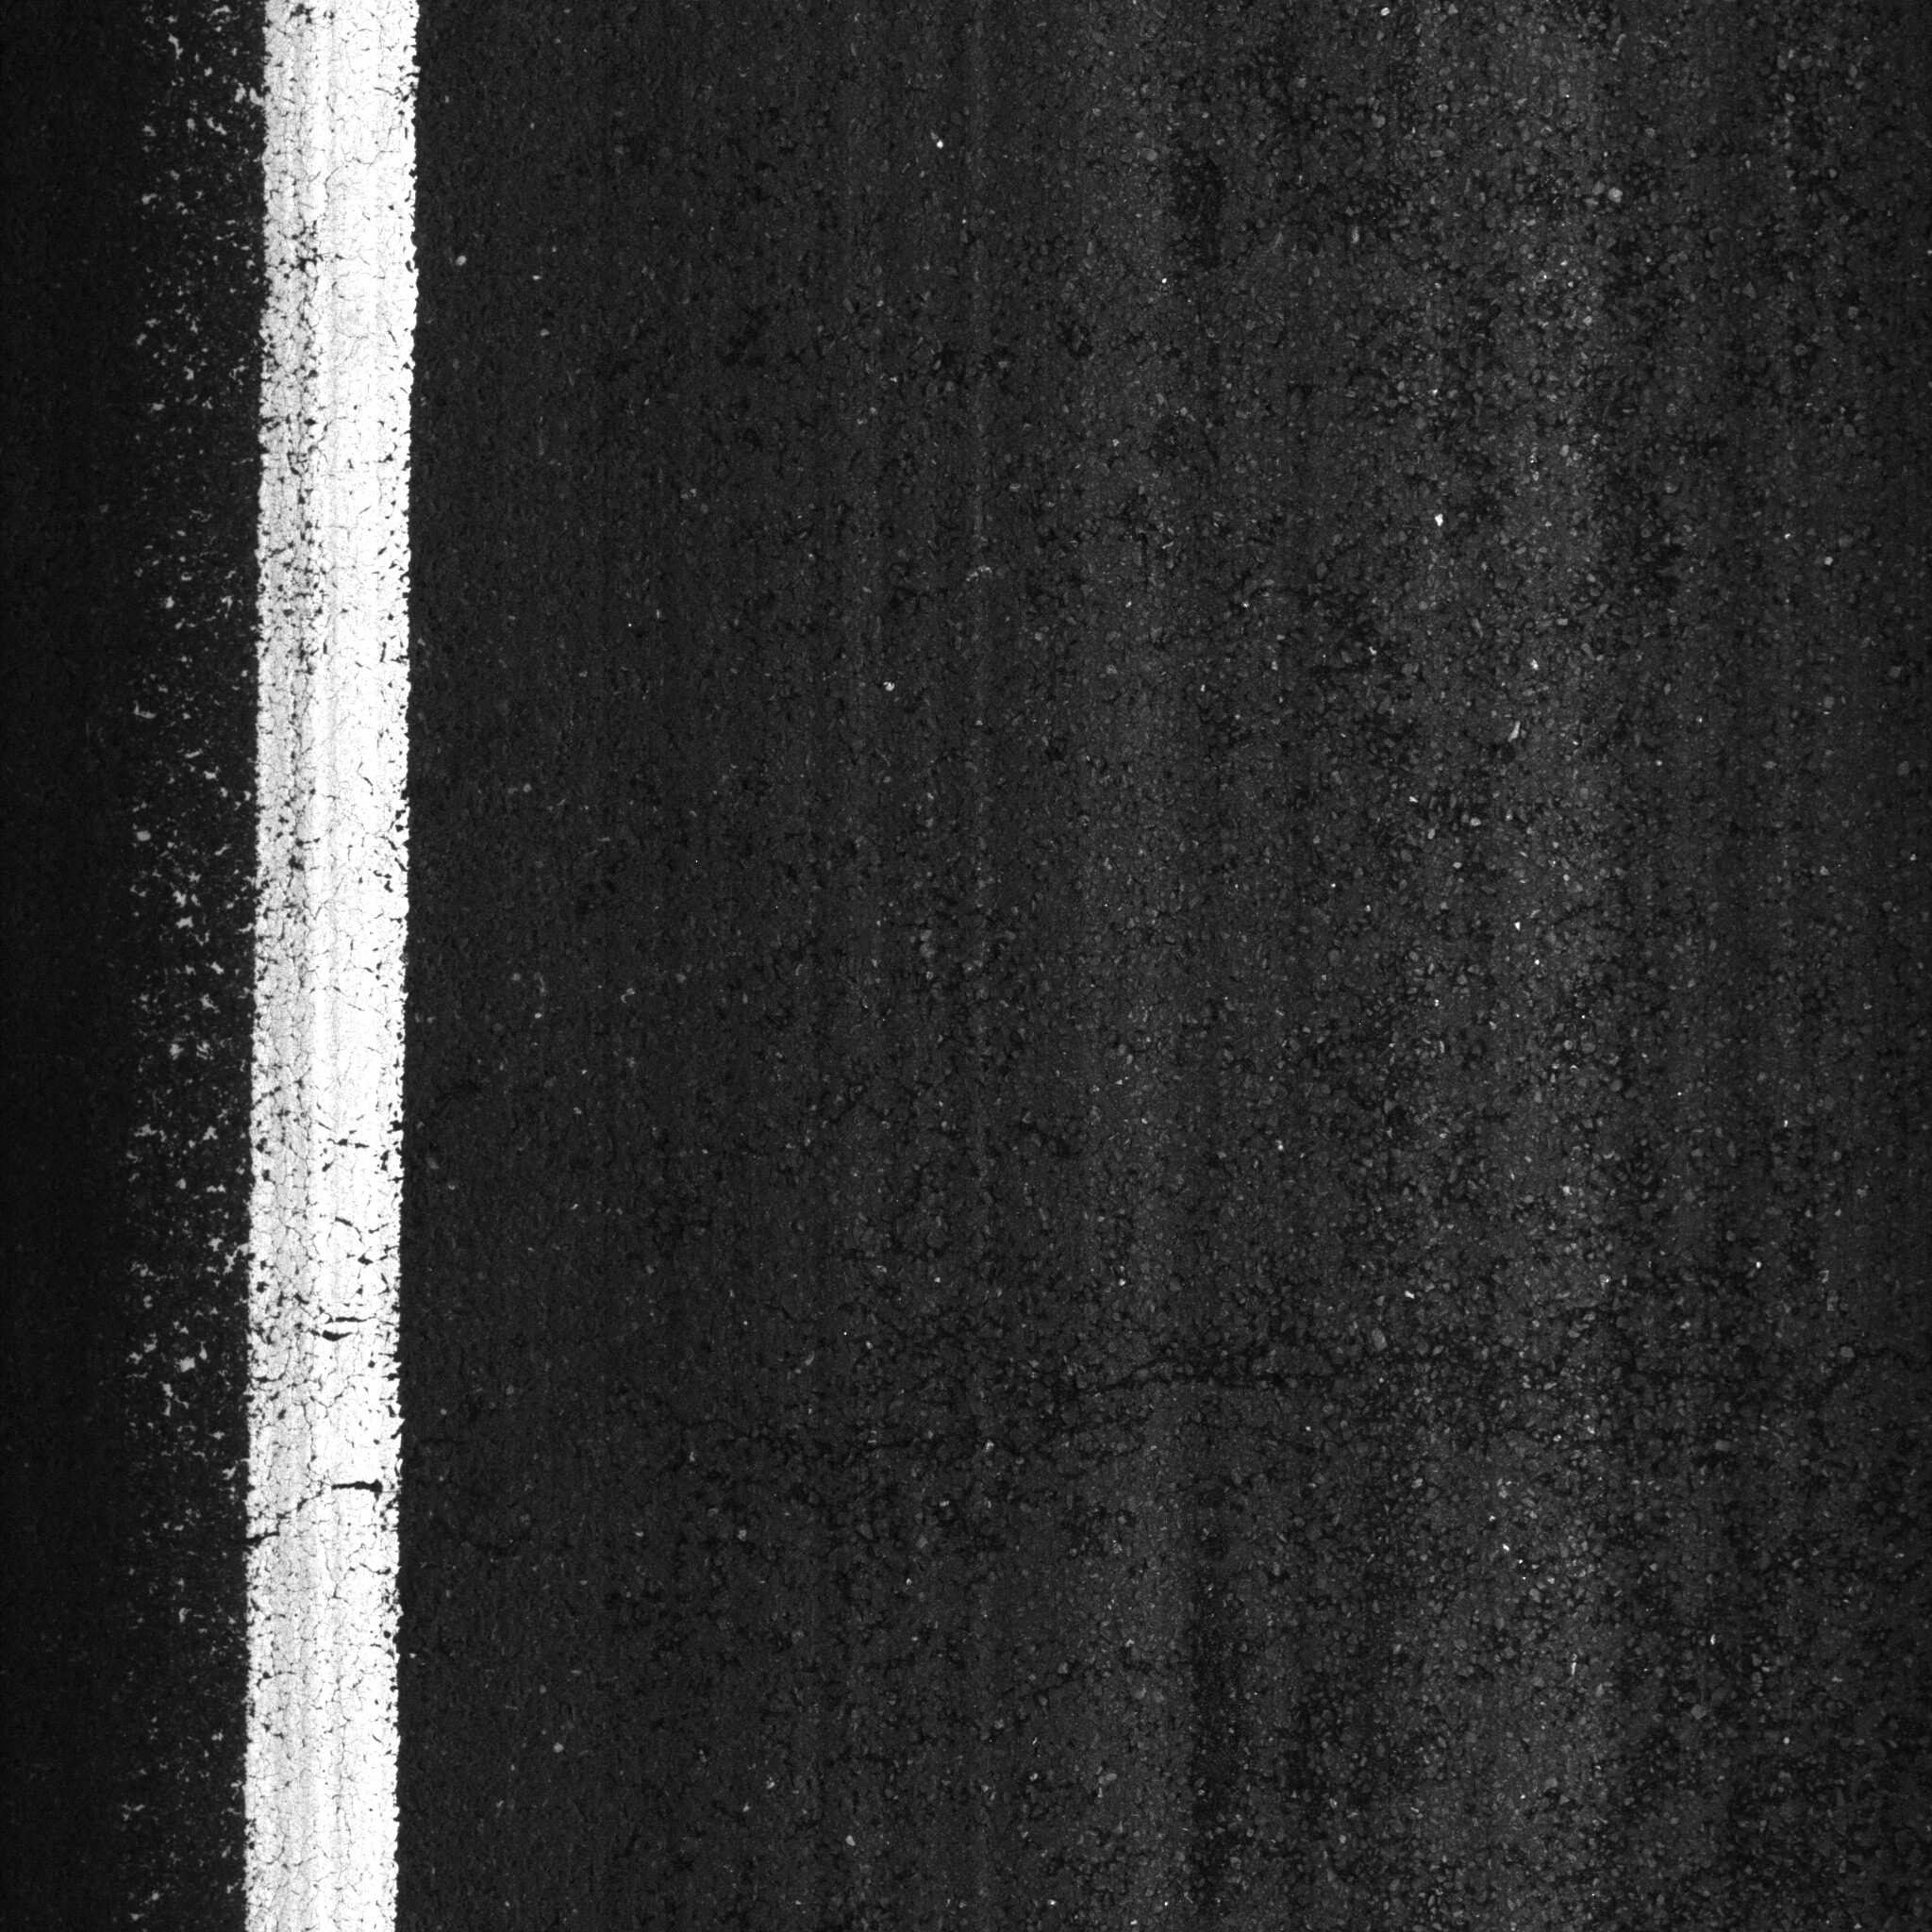transeverse: (1044, 1345, 1916, 1460)
